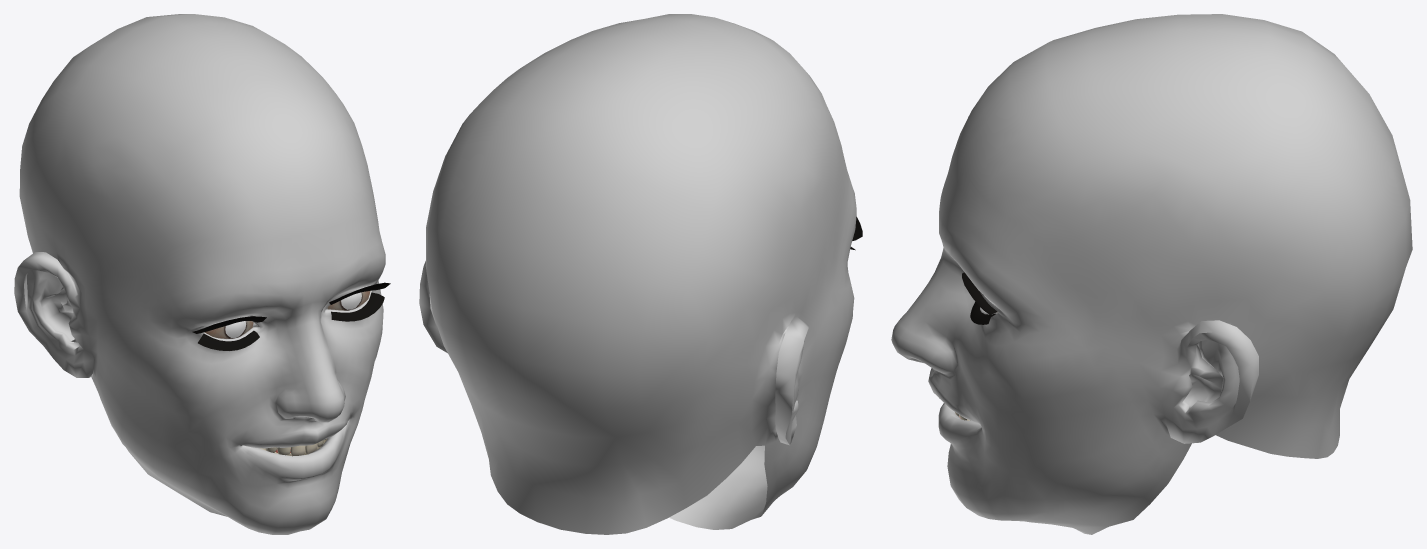
File: Male.obj
3 views of the same model, side by side, from view 1: azimuth 30°, elevation 25°; view 2: azimuth 150°, elevation 25°; view 3: azimuth 270°, elevation 25° (orthographic). The views are drawn at different scales.
Parts seen in each view (by area): view 1: Head, rEye, lEye; view 2: Head; view 3: Head.
Part boxes in pixels (left/top/right/bottom): Head: left=14, top=14, right=390, bottom=534; rEye: left=205, top=321, right=253, bottom=338; lEye: left=327, top=291, right=370, bottom=310; Head: left=419, top=14, right=862, bottom=534; Head: left=891, top=14, right=1412, bottom=534.
Bounding box in the file's own units: 18.47 × 24.67 × 23.42.
